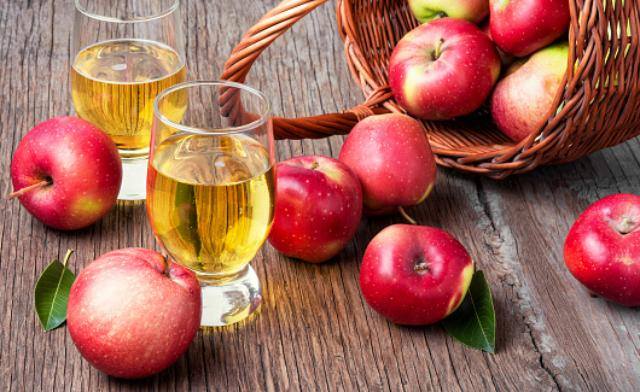Apples: (68, 248, 202, 378), (9, 116, 122, 230), (361, 224, 472, 326), (388, 17, 497, 119), (272, 156, 361, 260), (342, 114, 434, 210), (564, 192, 640, 308)
